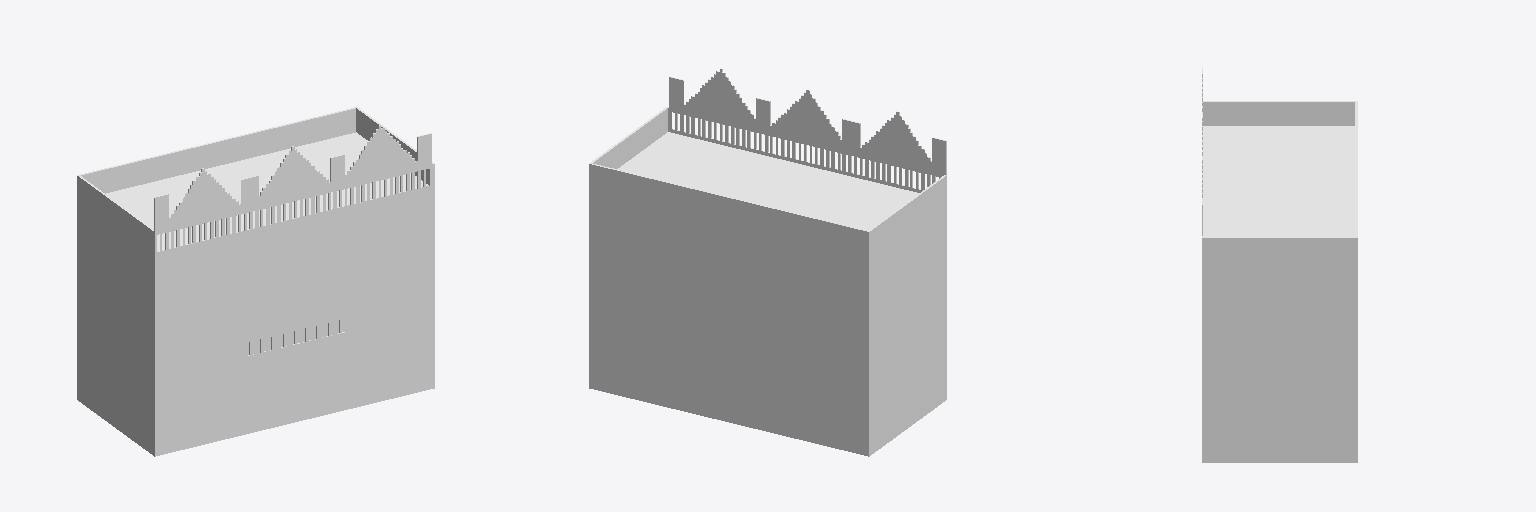
File: thornfield_hall.obj
3 views of the same model, side by side, from view 1: azimuth 30°, elevation 25°; view 2: azimuth 150°, elevation 25°; view 3: azimuth 270°, elevation 25° (orthographic).
Parts seen in each view (by area): view 1: object 1; view 2: object 1; view 3: object 1.
Part boxes in pixels (bbox=[...]): object 1: bbox=[77, 107, 434, 456]; object 1: bbox=[589, 68, 946, 456]; object 1: bbox=[1202, 67, 1357, 462].
Size of the model in its own units: 25.6 by 24.1 by 12.3.